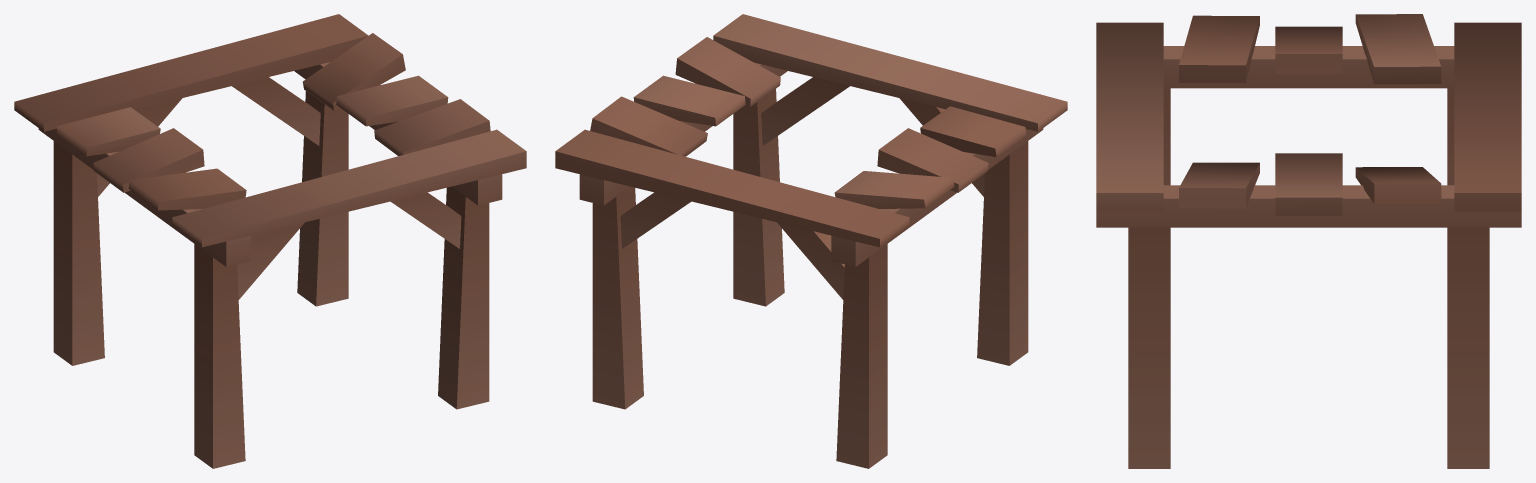
Rendered from template-floor-layer-hole.glb.
3 renders of one model, left to right at view 1: azimuth 30°, elevation 25°; view 2: azimuth 150°, elevation 25°; view 3: azimuth 270°, elevation 25°, orthographic. The views are drawn at different scales.
Parts seen in each view (by area): view 1: template-floor-layer-hole; view 2: template-floor-layer-hole; view 3: template-floor-layer-hole.
Part boxes in pixels (x1,y1,x2,y2): template-floor-layer-hole: (14,14,526,468); template-floor-layer-hole: (555,14,1067,468); template-floor-layer-hole: (1096,14,1521,468).
Size of the model in its own units: 4.04 by 3.09 by 4.
Materials: 1 (1 with a texture image).
